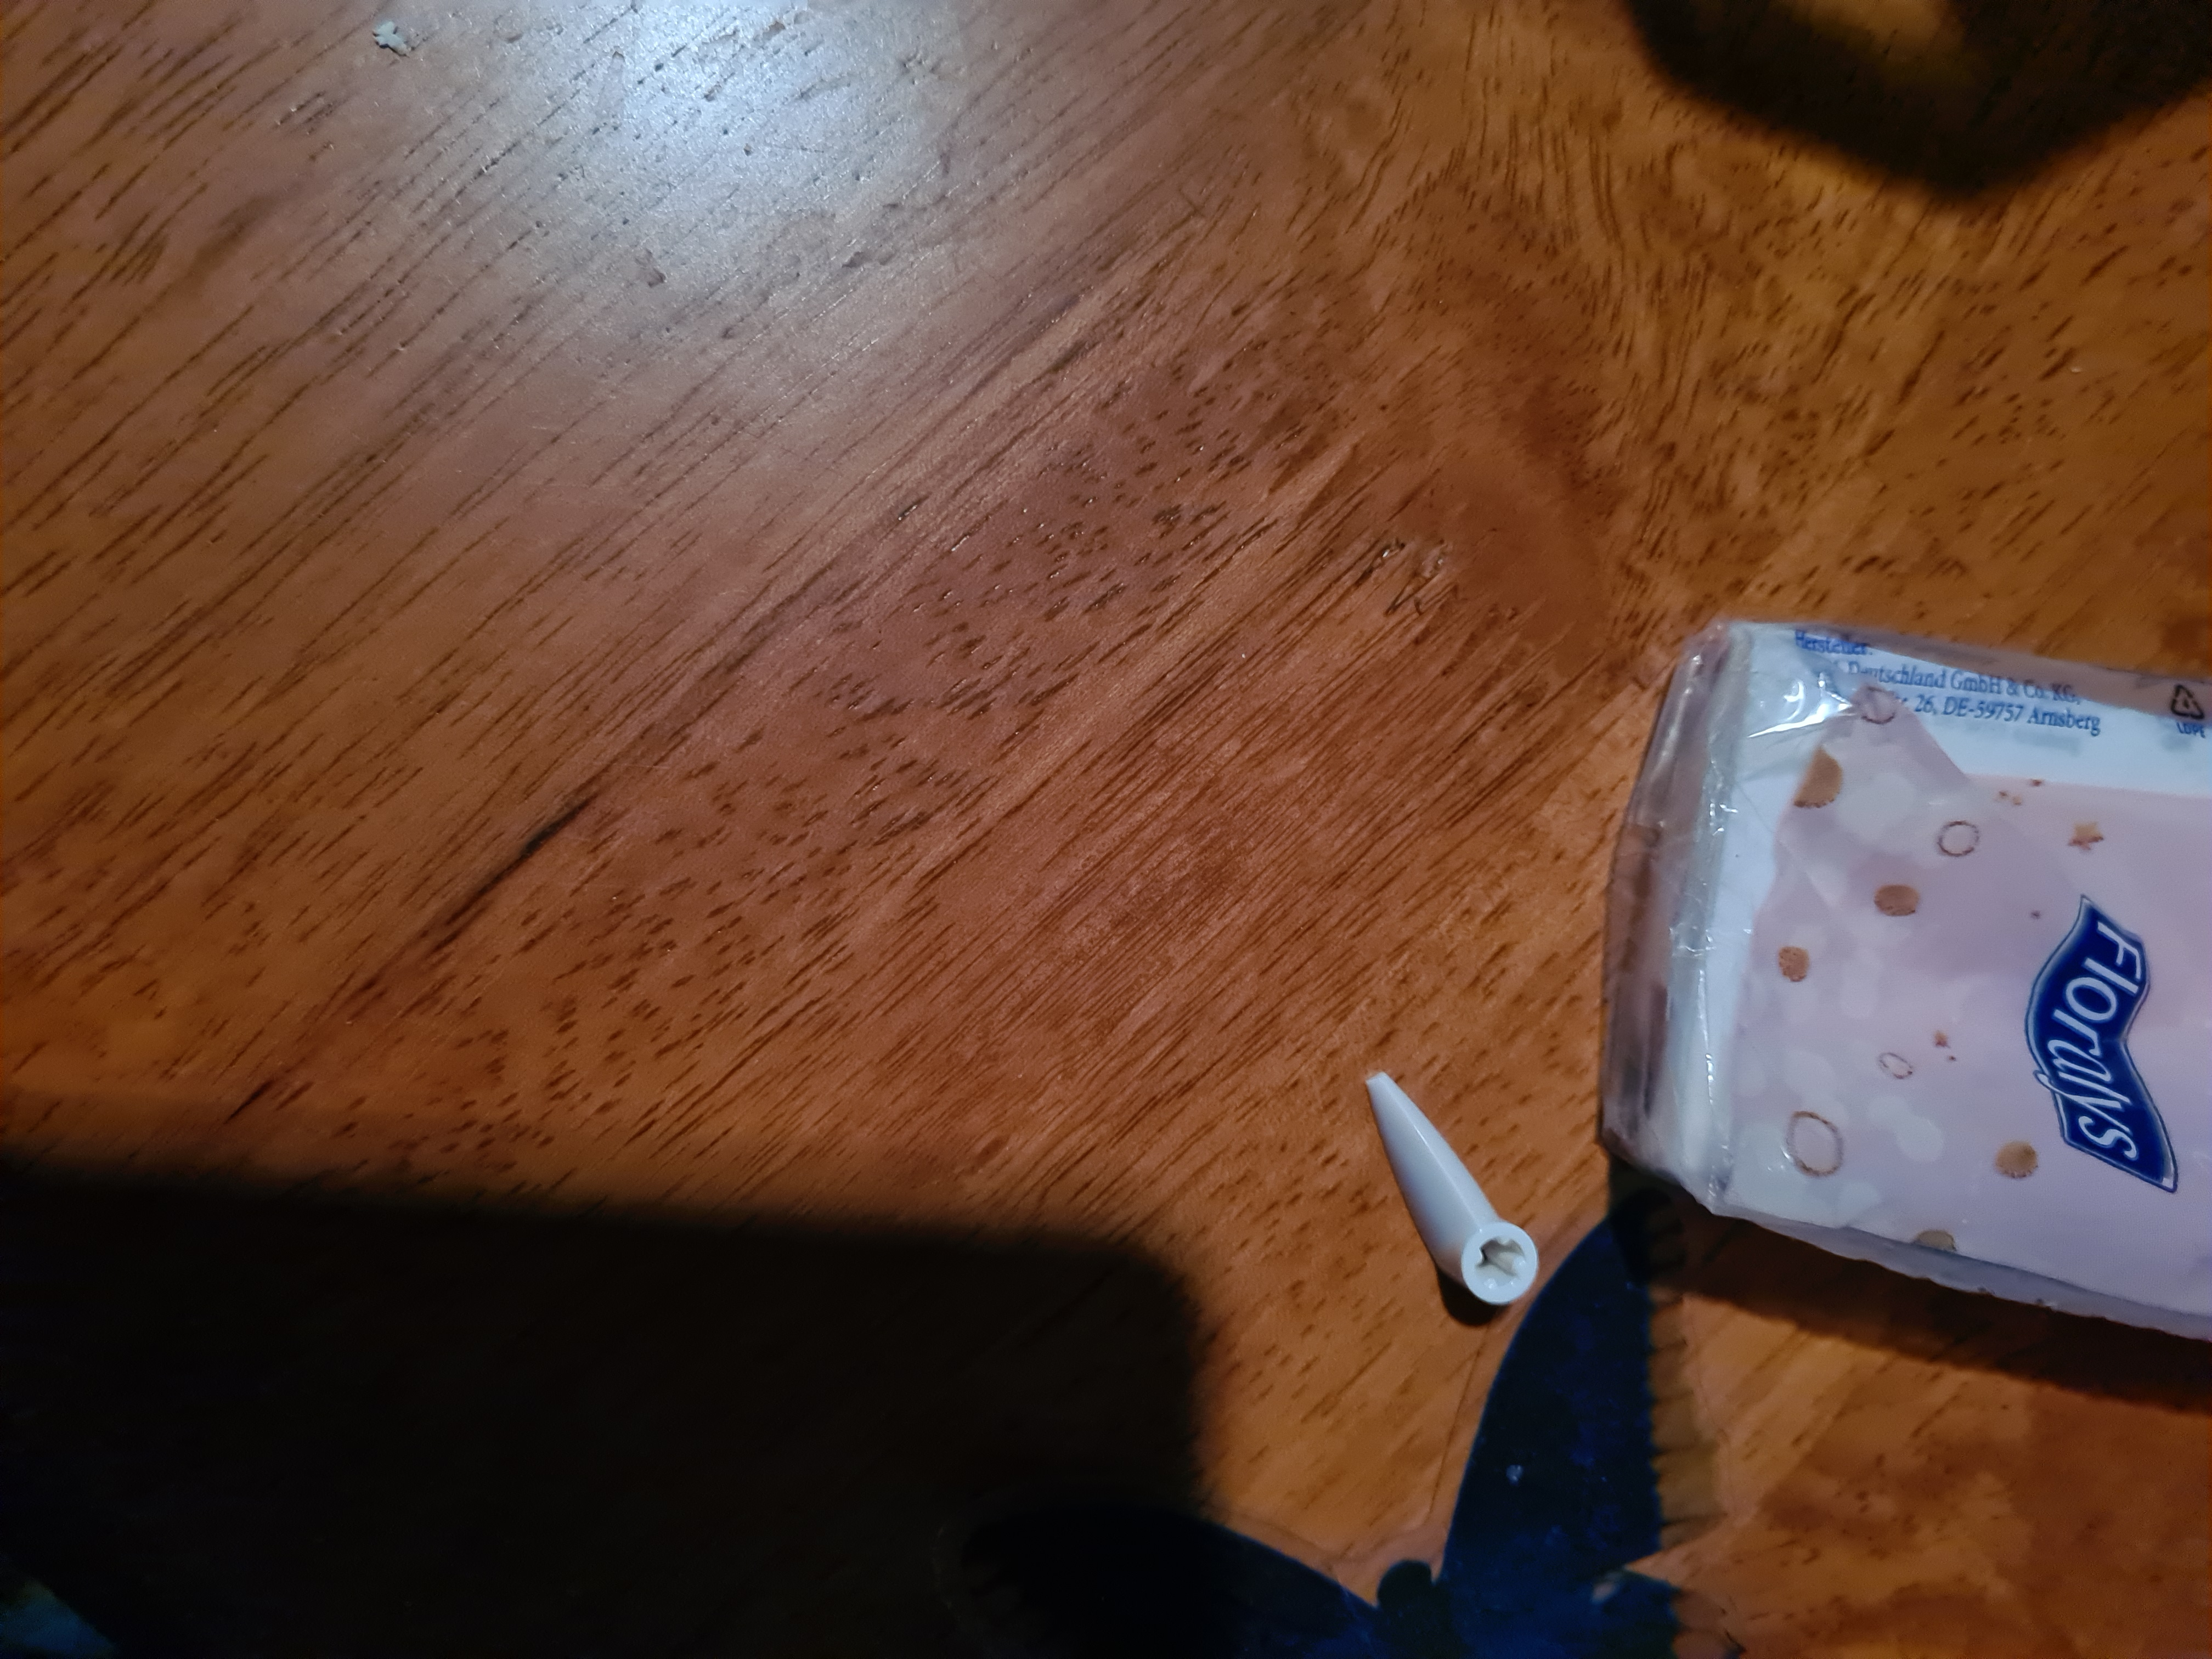Kappe: (1350, 1012, 1559, 1326)
